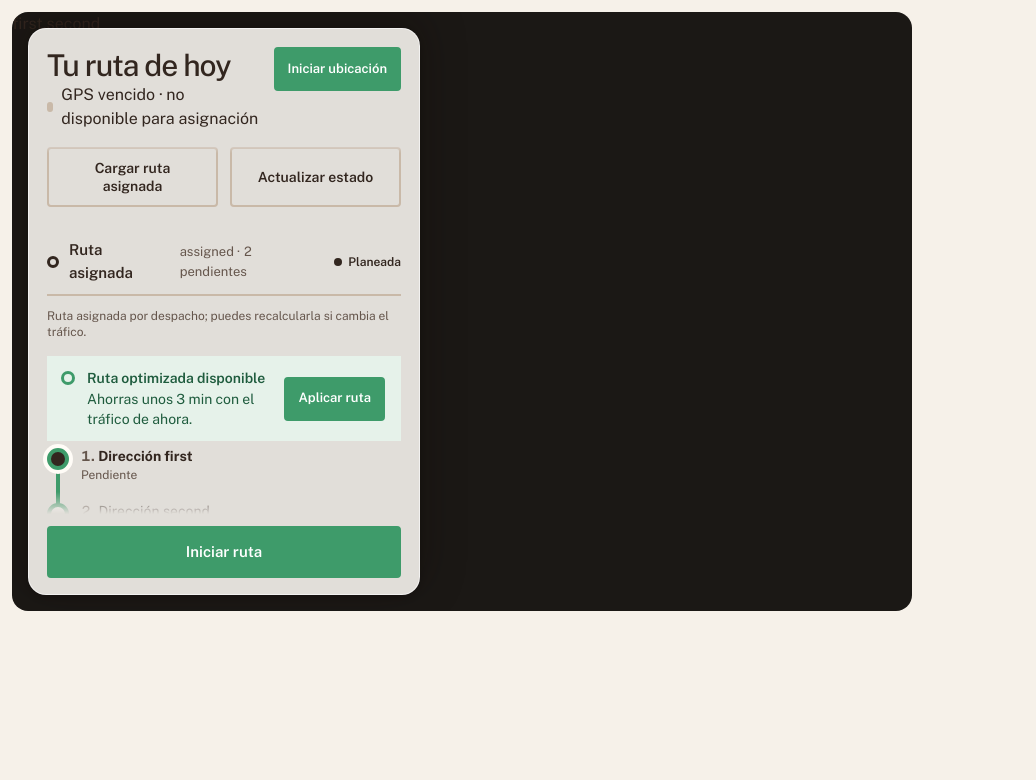
it: propone la ruta cada 5 s sin cambiarla; solo Aplicar recalcula y actualiza mapa/lista
This screenshot has width=1036, height=780.
Expected: the text with test id "courier-map" reads "first,second", [12,14,100,33]
Expected: the text "Ahorras unos 3 min con el tráfico de ahora." is shown, [87,389,268,429]
Click the button "Aplicar ruta".
click(335, 399)  # box [284,377,385,421]
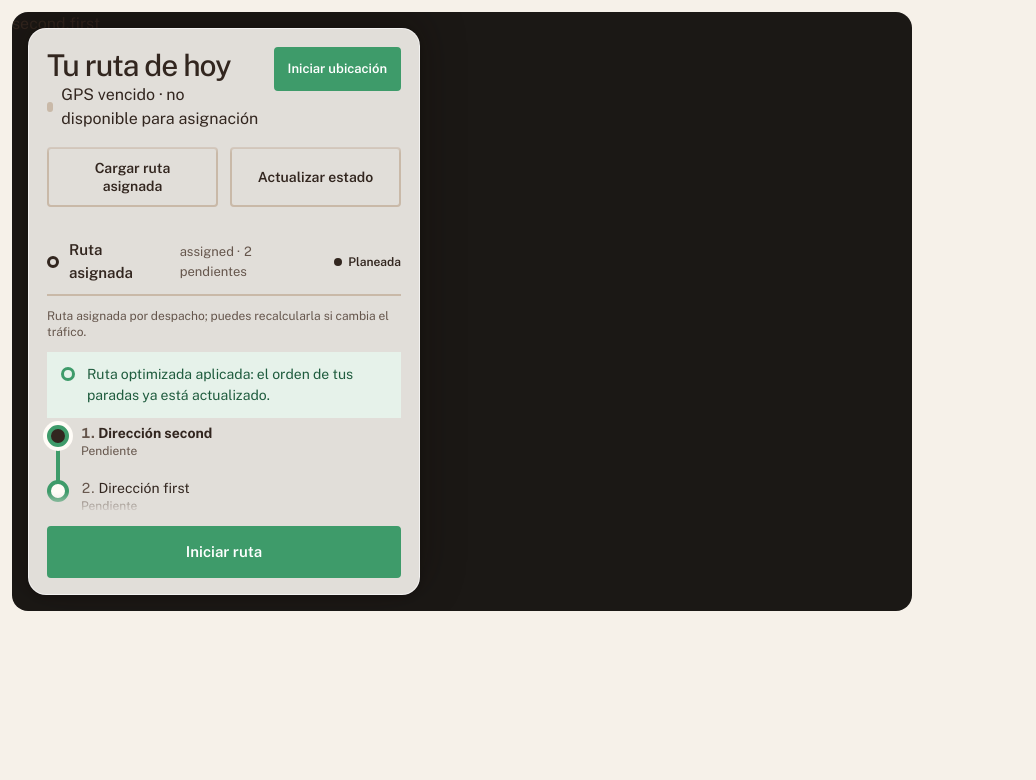
Expected: the text with test id "courier-map" reads "second,first", [12,14,100,33]
Expected: the text "Ruta optimizada aplicada: el orden de tus paradas ya está actualizado." is shown, [47,352,401,418]
